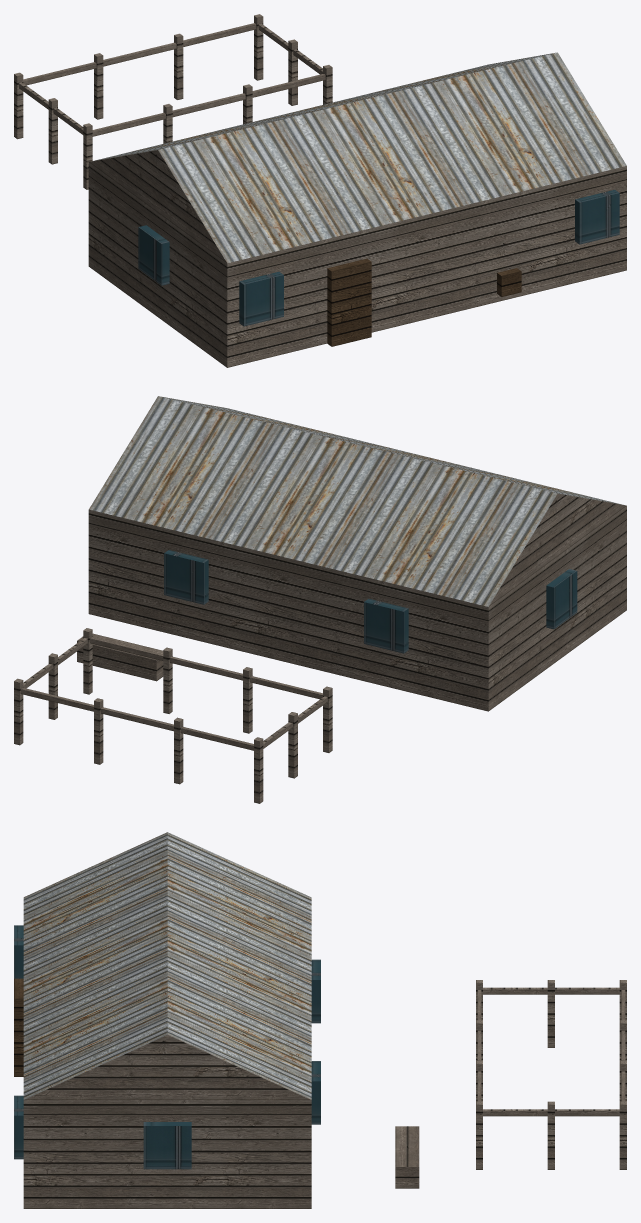
Rendered from chicken-coop_lod0.gltf.
3 views of the same model, one above another, from view 1: azimuth 30°, elevation 25°; view 2: azimuth 150°, elevation 25°; view 3: azimuth 270°, elevation 25° (orthographic). The views are drawn at different scales.
Parts seen in each view (by area): view 1: chicken-coop_roof, chicken-coop_walls, chicken-coop_fen_07-glass-curtain-blue_1, chicken-coop_gable_ends, chicken-coop_fen_18-timber-siding_0_t, chicken-coop__run_b, chicken-coop__run_a, chicken-coop__run_c, chicken-coop__run_d; view 2: chicken-coop_roof, chicken-coop_walls, chicken-coop_fen_07-glass-curtain-blue_1, chicken-coop_gable_ends, chicken-coop__run_b, chicken-coop__run_a, chicken-coop__trough, chicken-coop__run_c, chicken-coop__run_d; view 3: chicken-coop_roof, chicken-coop_walls, chicken-coop_gable_ends, chicken-coop_fen_07-glass-curtain-blue_1, chicken-coop__run_d, chicken-coop__run_c, chicken-coop__trough, chicken-coop__run_b, chicken-coop__run_a, chicken-coop_fen_18-timber-siding_0_t.
Boxes of the visible parts, x1,y1,x2,y2 form: chicken-coop_roof: [91, 52, 626, 263]; chicken-coop_walls: [88, 162, 626, 367]; chicken-coop_fen_07-glass-curtain-blue_1: [138, 189, 619, 326]; chicken-coop_gable_ends: [89, 150, 226, 262]; chicken-coop_fen_18-timber-siding_0_t: [327, 258, 521, 346]; chicken-coop__run_b: [14, 14, 263, 139]; chicken-coop__run_a: [83, 65, 332, 189]; chicken-coop__run_c: [19, 82, 83, 164]; chicken-coop__run_d: [258, 24, 322, 105]; chicken-coop_roof: [89, 396, 624, 606]; chicken-coop_walls: [88, 506, 626, 711]; chicken-coop_fen_07-glass-curtain-blue_1: [164, 550, 577, 653]; chicken-coop_gable_ends: [489, 493, 626, 606]; chicken-coop__run_b: [14, 678, 263, 803]; chicken-coop__run_a: [83, 628, 332, 752]; chicken-coop__trough: [77, 633, 163, 681]; chicken-coop__run_c: [263, 696, 327, 778]; chicken-coop__run_d: [23, 638, 87, 719]; chicken-coop_roof: [23, 832, 311, 1099]; chicken-coop_walls: [23, 1100, 311, 1208]; chicken-coop_gable_ends: [24, 1035, 310, 1099]; chicken-coop_fen_07-glass-curtain-blue_1: [14, 925, 320, 1169]; chicken-coop__run_d: [483, 1101, 619, 1169]; chicken-coop__run_c: [483, 980, 619, 1047]; chicken-coop__trough: [395, 1126, 419, 1188]; chicken-coop__run_b: [619, 980, 626, 1169]; chicken-coop__run_a: [476, 980, 482, 1169]; chicken-coop_fen_18-timber-siding_0_t: [14, 978, 23, 1076].
Size of the model in its own units: 10.4 by 4 by 12.77.
